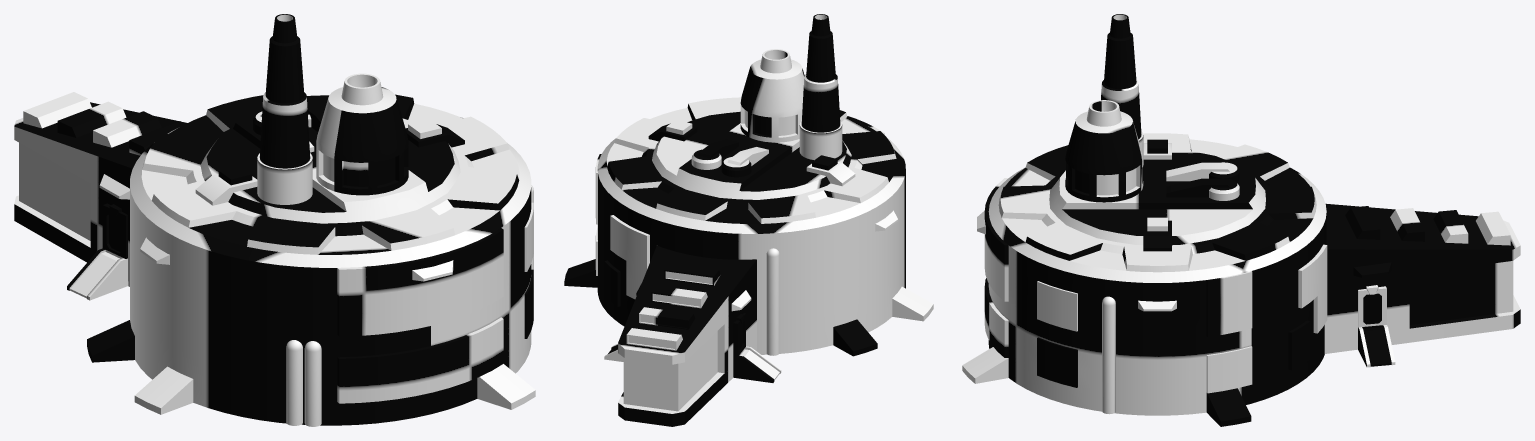
File: Building1.fbx
3 views of the same model, side by side, from view 1: azimuth 30°, elevation 25°; view 2: azimuth 150°, elevation 25°; view 3: azimuth 270°, elevation 25° (orthographic). The views are drawn at different scales.
Visible parts, largest first — view 1: Cylinder, Cube.002; view 2: Cylinder, Cube.002; view 3: Cylinder, Cube.002.
Part boxes in pixels (x1,y1,x2,y2): Cylinder: [87, 14, 535, 426]; Cube.002: [14, 92, 187, 300]; Cylinder: [564, 14, 933, 356]; Cube.002: [604, 245, 781, 426]; Cylinder: [962, 14, 1327, 426]; Cube.002: [1324, 203, 1520, 367].
Size of the model in its own units: 551 by 455 by 770.
